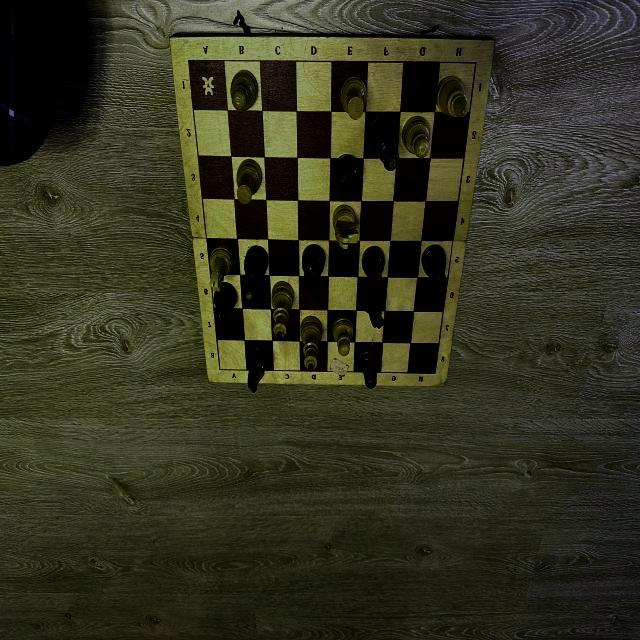chess-table-corners: (471, 54, 481, 70), (184, 54, 194, 68), (432, 368, 439, 379), (217, 366, 223, 374)
